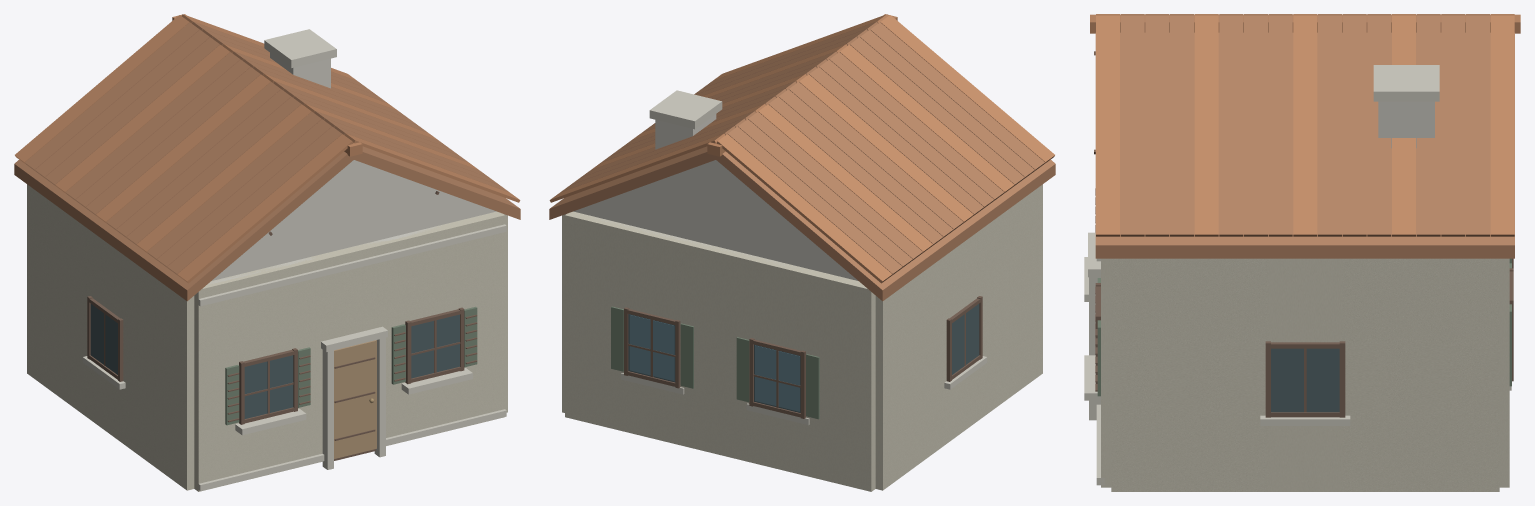
The model's file is city_small_house_lod1.glb.
3 views of the same model, side by side, from view 1: azimuth 30°, elevation 25°; view 2: azimuth 150°, elevation 25°; view 3: azimuth 270°, elevation 25° (orthographic). The views are drawn at different scales.
Visible parts, largest first — view 1: ROOF_roof, ROOF_roof_alt, STRUCTURE_stucco, DETAILS_stone_trim, DOORS_WINDOWS_window_dark, STRUCTURE_stucco_textured_0049, STRUCTURE_stucco_textured_0047, DOORS_WINDOWS_wood_light, STRUCTURE_stucco_textured_0015, STRUCTURE_stucco_textured_0044, STRUCTURE_stucco_textured_0007, STRUCTURE_stucco_textured_0023 (+23 smaller); view 2: ROOF_roof, ROOF_roof_alt, STRUCTURE_stucco, STRUCTURE_stucco_textured_0036, STRUCTURE_stucco_textured_0031, STRUCTURE_stucco_textured_0041, STRUCTURE_stucco_textured_0044, DOORS_WINDOWS_glass, STRUCTURE_stucco_textured_0042, STRUCTURE_stucco_textured_0034, STRUCTURE_stucco_textured_0049, STRUCTURE_stucco_textured_0038 (+18 smaller); view 3: ROOF_roof, ROOF_roof_alt, STRUCTURE_stucco_textured_0052, STRUCTURE_stucco_textured_0057, STRUCTURE_stucco_textured_0050, STRUCTURE_stucco_textured_0055, STRUCTURE_stucco_textured_0051, STRUCTURE_stucco_textured_0056, STRUCTURE_stucco_textured_0054, STRUCTURE_stucco_textured_0053, DETAILS_stone_trim, DOORS_WINDOWS_window_dark (+10 smaller).
Part boxes in pixels (x1,y1,x2,y2): ROOF_roof: [14, 21, 520, 301]; ROOF_roof_alt: [15, 14, 520, 283]; STRUCTURE_stucco: [208, 160, 496, 284]; DETAILS_stone_trim: [82, 29, 506, 491]; DOORS_WINDOWS_window_dark: [90, 304, 459, 418]; STRUCTURE_stucco_textured_0049: [122, 254, 194, 368]; STRUCTURE_stucco_textured_0047: [122, 378, 194, 490]; DOORS_WINDOWS_wood_light: [334, 340, 376, 458]; STRUCTURE_stucco_textured_0015: [319, 242, 378, 340]; STRUCTURE_stucco_textured_0044: [27, 184, 91, 296]; STRUCTURE_stucco_textured_0007: [235, 263, 293, 361]; STRUCTURE_stucco_textured_0023: [405, 222, 460, 320]; ROOF_roof: [549, 21, 1055, 301]; ROOF_roof_alt: [549, 14, 1054, 283]; STRUCTURE_stucco: [573, 160, 857, 280]; STRUCTURE_stucco_textured_0036: [678, 238, 758, 339]; STRUCTURE_stucco_textured_0031: [804, 269, 875, 369]; STRUCTURE_stucco_textured_0041: [565, 211, 632, 309]; STRUCTURE_stucco_textured_0044: [875, 254, 947, 368]; DOORS_WINDOWS_glass: [629, 315, 799, 411]; STRUCTURE_stucco_textured_0042: [875, 378, 947, 490]; STRUCTURE_stucco_textured_0034: [678, 385, 752, 462]; STRUCTURE_stucco_textured_0049: [978, 184, 1042, 296]; STRUCTURE_stucco_textured_0038: [627, 226, 683, 320]; ROOF_roof: [1095, 14, 1514, 258]; ROOF_roof_alt: [1090, 14, 1520, 236]; STRUCTURE_stucco_textured_0052: [1342, 258, 1499, 343]; STRUCTURE_stucco_textured_0057: [1111, 258, 1268, 343]; STRUCTURE_stucco_textured_0050: [1342, 412, 1499, 491]; STRUCTURE_stucco_textured_0055: [1111, 412, 1268, 491]; STRUCTURE_stucco_textured_0051: [1345, 344, 1499, 412]; STRUCTURE_stucco_textured_0056: [1111, 344, 1265, 412]; STRUCTURE_stucco_textured_0054: [1268, 258, 1342, 342]; STRUCTURE_stucco_textured_0053: [1268, 426, 1342, 491]; DETAILS_stone_trim: [1084, 65, 1511, 485]; DOORS_WINDOWS_window_dark: [1271, 348, 1339, 412].
Bounding box in the file's own units: 6.91 × 6.34 × 6.47.
Materials: 1 (1 with a texture image).
